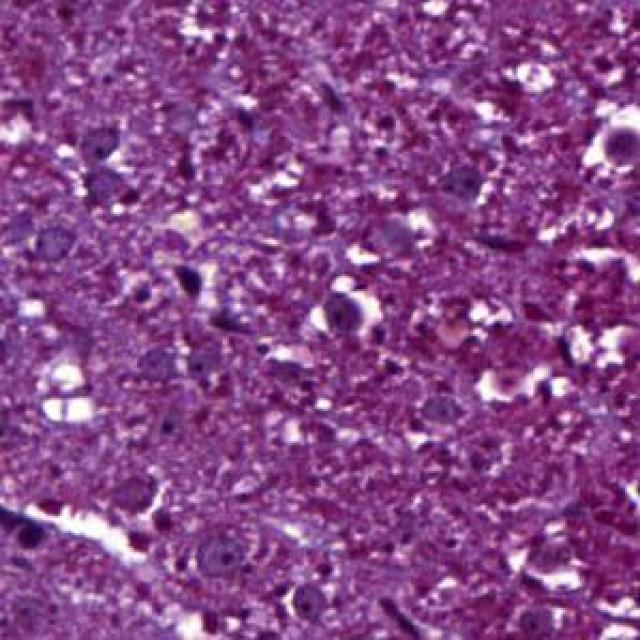inflammation: (69, 126, 139, 216), (304, 272, 381, 347), (582, 110, 640, 188), (190, 529, 254, 582)
